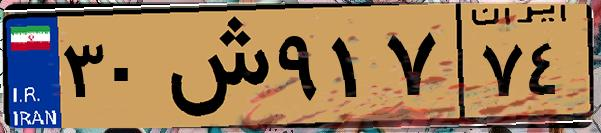0: (110, 28, 158, 98)
1: (330, 28, 385, 110)
3: (57, 26, 110, 100)
4: (525, 38, 570, 115)
7: (385, 28, 445, 110), (475, 38, 525, 113)
9: (270, 28, 330, 110)
ش: (158, 12, 270, 120)
